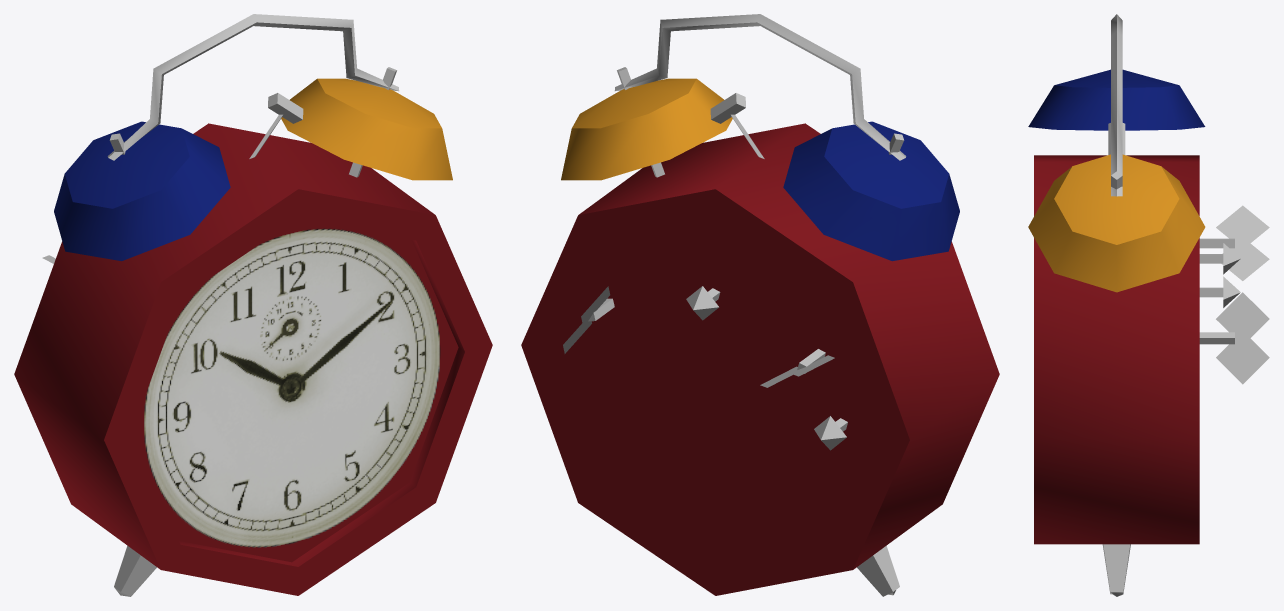
Rendered from alarm_clock_c4d.fbx.
3 views of the same model, side by side, from view 1: azimuth 30°, elevation 25°; view 2: azimuth 150°, elevation 25°; view 3: azimuth 270°, elevation 25° (orthographic). The views are drawn at different scales.
Visible parts, largest first — view 1: Face, Body, Bell, Bell_2, Bridge, Leg_Left, Cube; view 2: Body, Bell, Bell_2, Bridge, Leg_Left, Cube, Handle, Pyramid, Pyramid_2; view 3: Body, Bell_2, Bell, Handle, Handle_2, Bridge, Leg_Right, Post_3, Post_4.
Part boxes in pixels (x1,y1,x2,y2): Face: [132, 218, 458, 562]; Body: [14, 123, 492, 595]; Bell: [54, 121, 230, 261]; Bell_2: [281, 78, 452, 180]; Bridge: [107, 14, 399, 160]; Leg_Left: [114, 546, 156, 596]; Cube: [268, 93, 303, 123]; Body: [521, 123, 999, 595]; Bell: [783, 121, 959, 261]; Bell_2: [561, 78, 732, 180]; Bridge: [614, 14, 906, 160]; Leg_Left: [857, 546, 899, 596]; Cube: [710, 93, 745, 123]; Handle: [563, 286, 610, 353]; Pyramid: [814, 416, 846, 450]; Pyramid_2: [686, 286, 718, 320]; Body: [1034, 155, 1199, 544]; Bell_2: [1028, 154, 1205, 292]; Bell: [1028, 69, 1205, 130]; Handle: [1216, 292, 1269, 384]; Handle_2: [1216, 205, 1269, 280]; Bridge: [1111, 14, 1122, 196]; Leg_Right: [1102, 544, 1130, 596]; Post_3: [1199, 332, 1234, 344]; Post_4: [1199, 238, 1234, 248].
Size of the model in its own units: 350 by 473 by 204.
5 materials, 1 textured.
